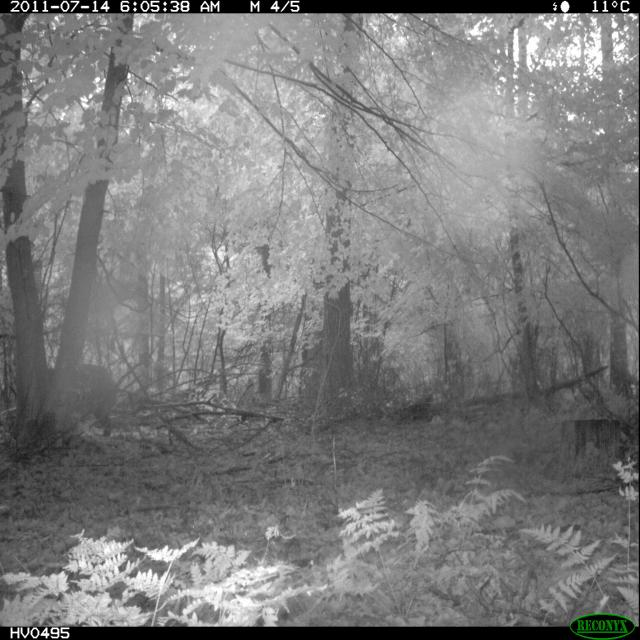boar: (536, 400, 640, 475)
